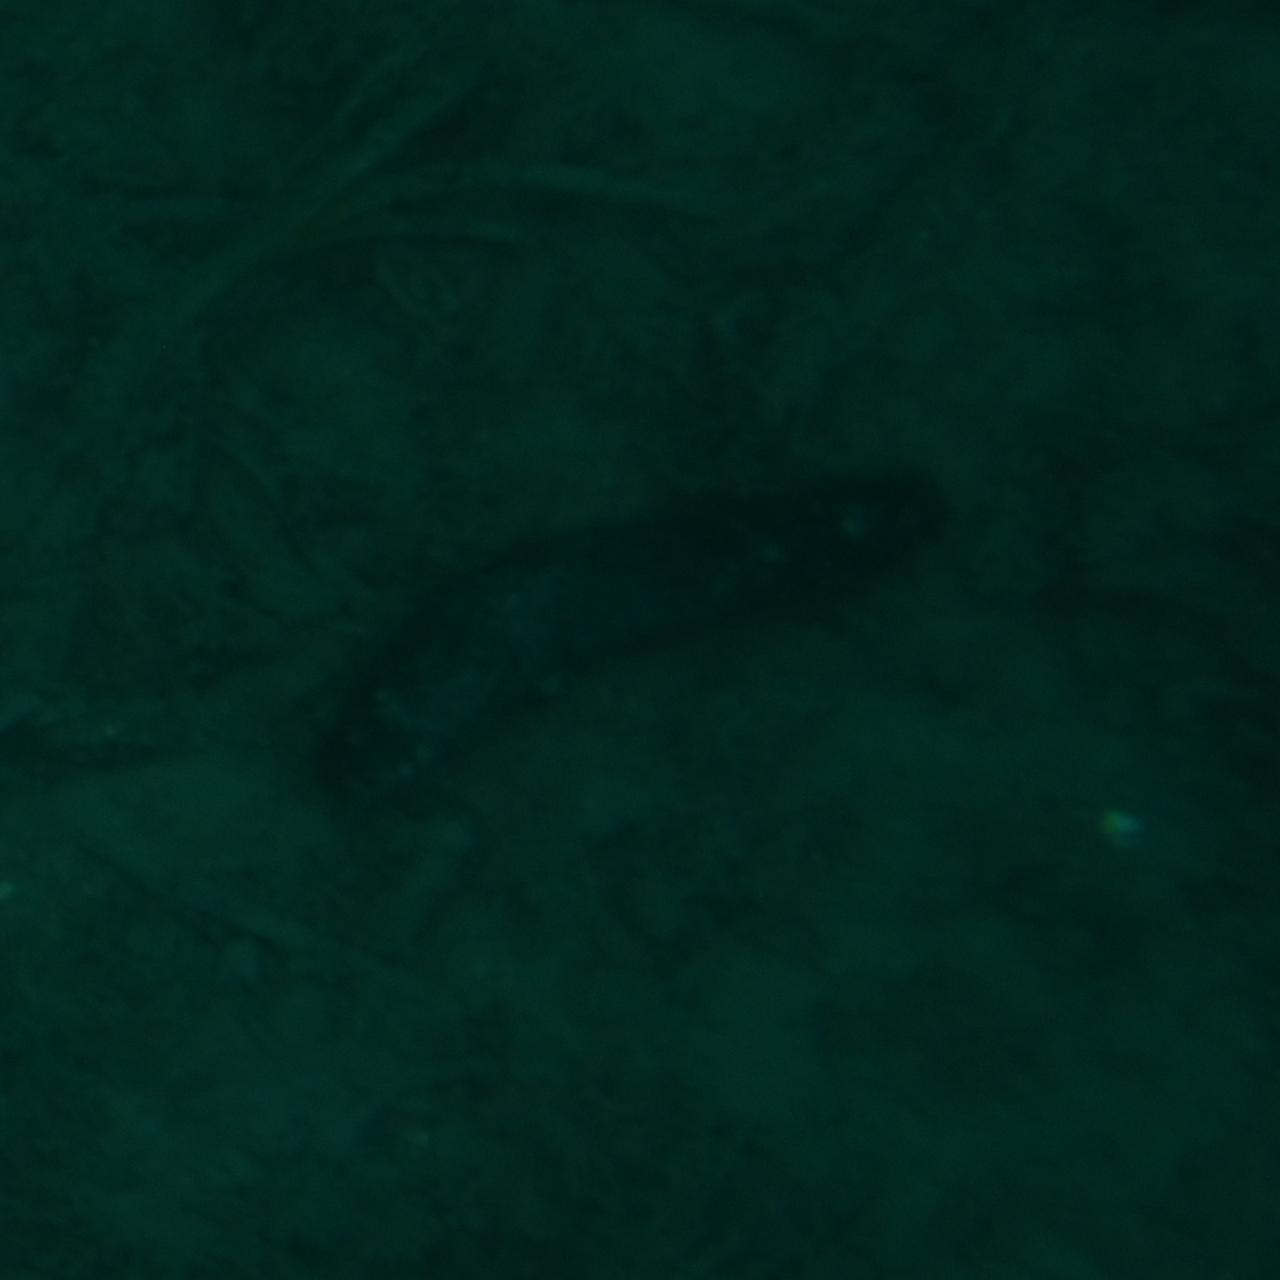Holothuria tubulosa: (307, 455, 973, 825)
